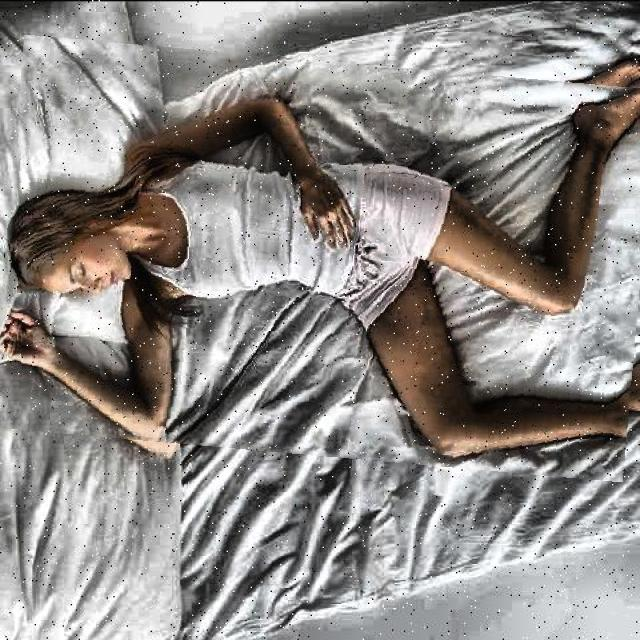Supine: (0, 89, 640, 458)
